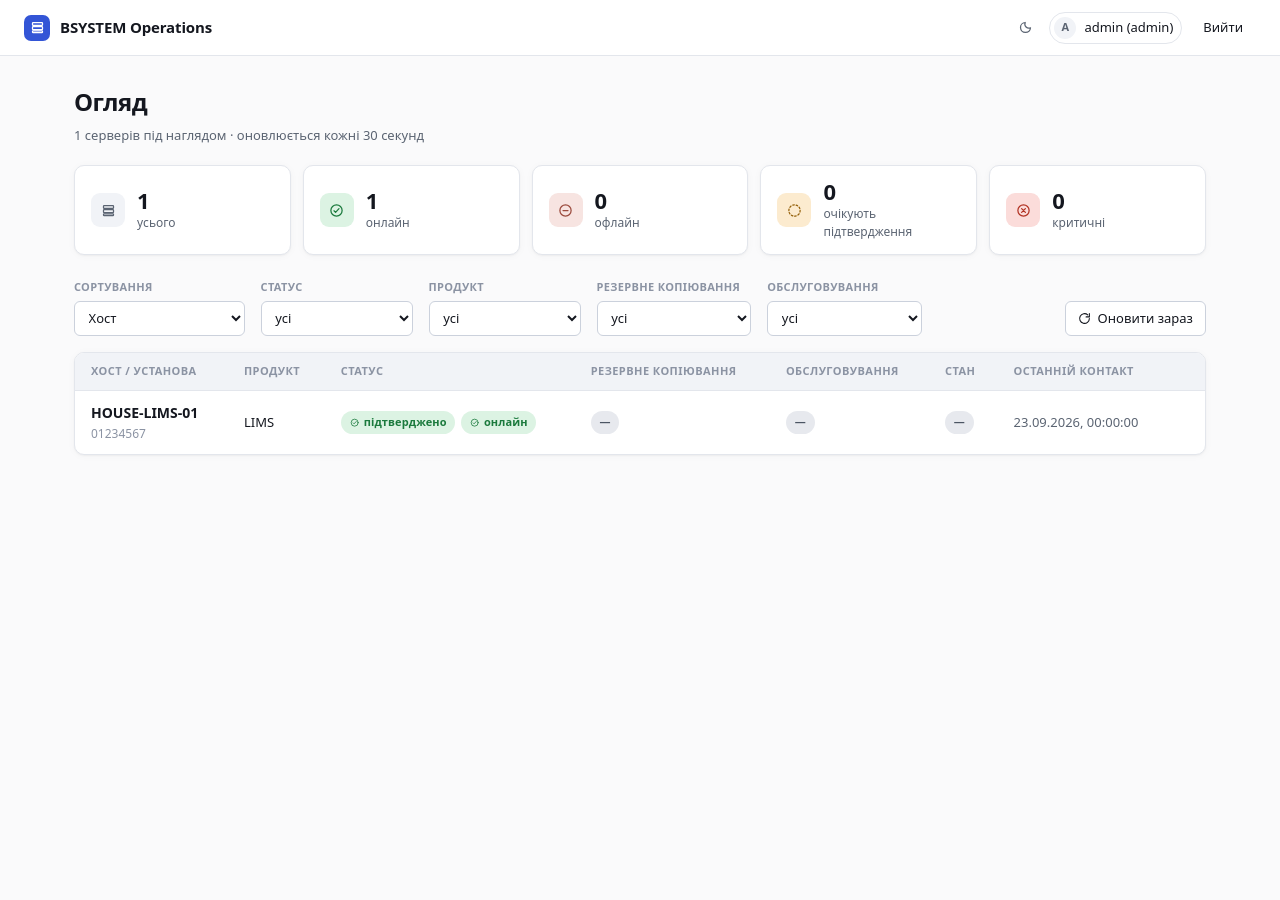
Test case: App › returns to the login page with a session-expired notice on a 401 during a background refresh (F3)
Expected: the button "HOUSE-LIMS-01" is shown, [91, 402, 198, 423]
Click the button "Оновити зараз" at (1136, 318), box [1065, 301, 1206, 336]
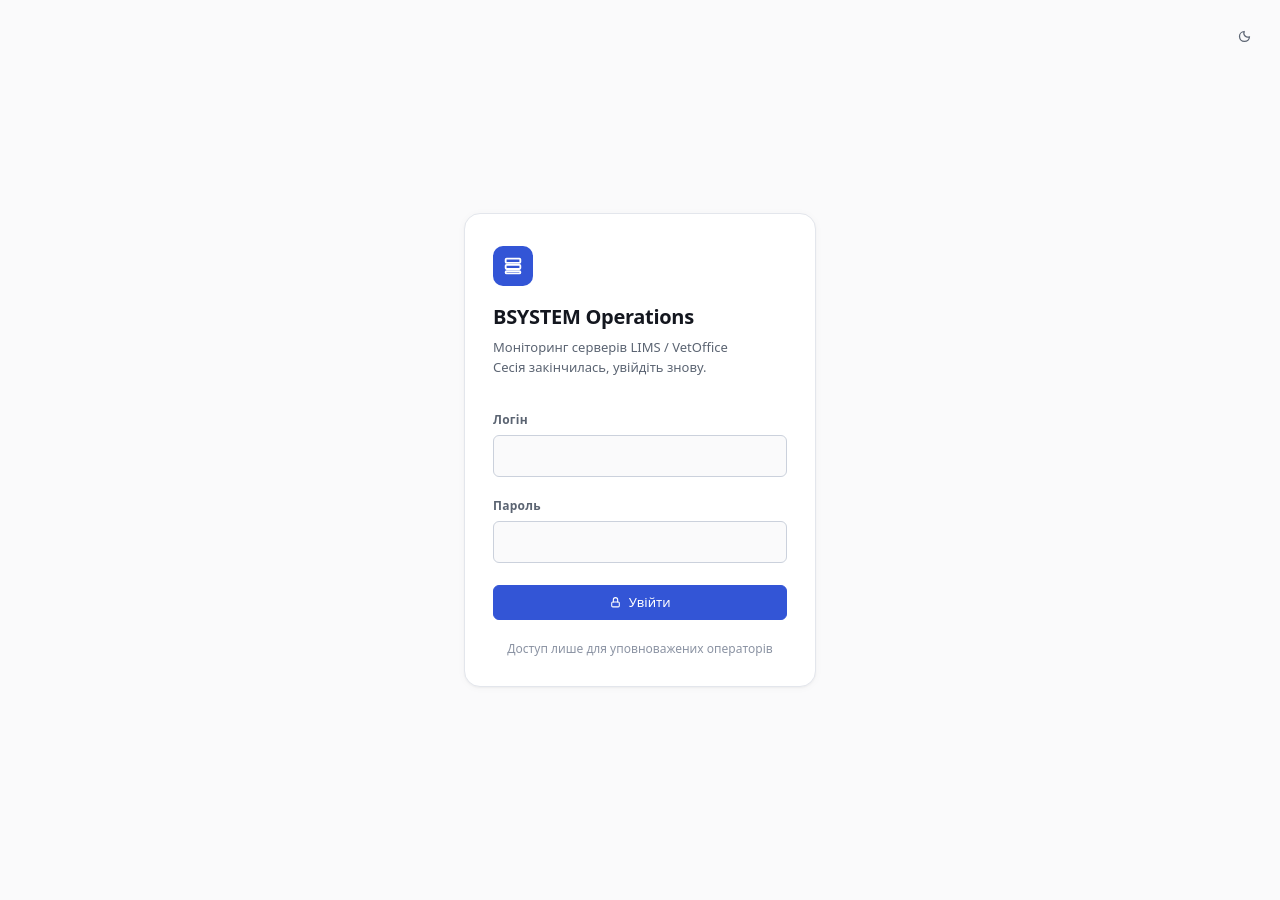
Now the field labelled "Логін" is shown, box [493, 435, 787, 477]
Now the text "Сесія закінчилась, увійдіть знову." is shown, box [493, 358, 707, 376]
